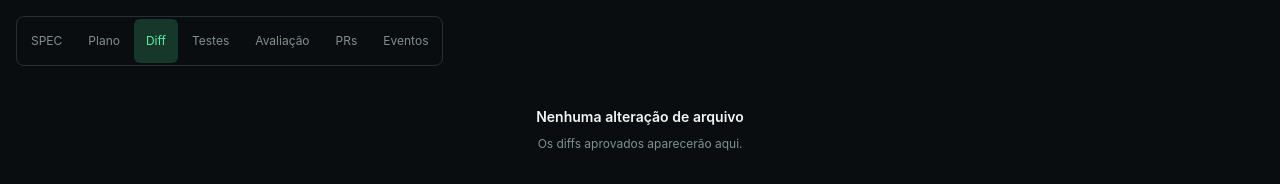
shows the report the agent left when it opened the pull requests
This screenshot has width=1280, height=184.
Click the button "PRs" at (346, 41), box [324,19,369,63]
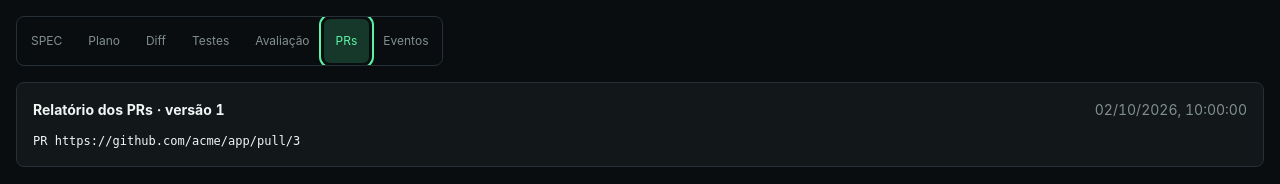
Expected: the heading "Relatório dos PRs · versão 1" is shown, [33,99,225,120]
Expected: the text "PR https://github.com/acme/app/pull/3" is shown, [33,134,300,148]
